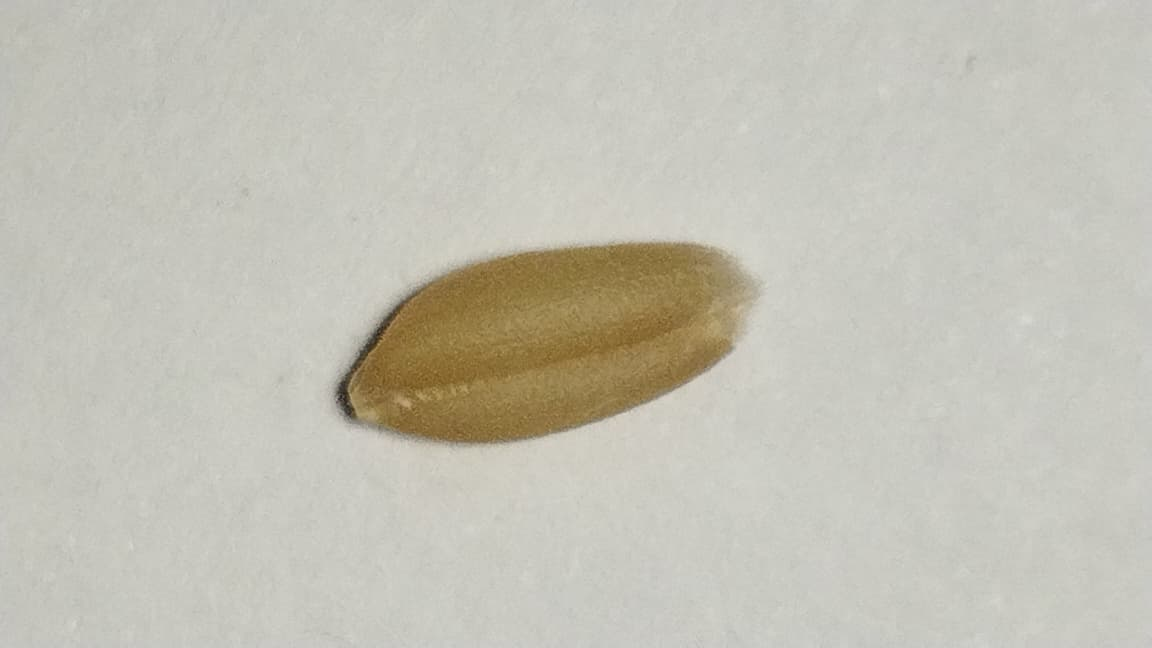healthy: (337, 239, 768, 448)
